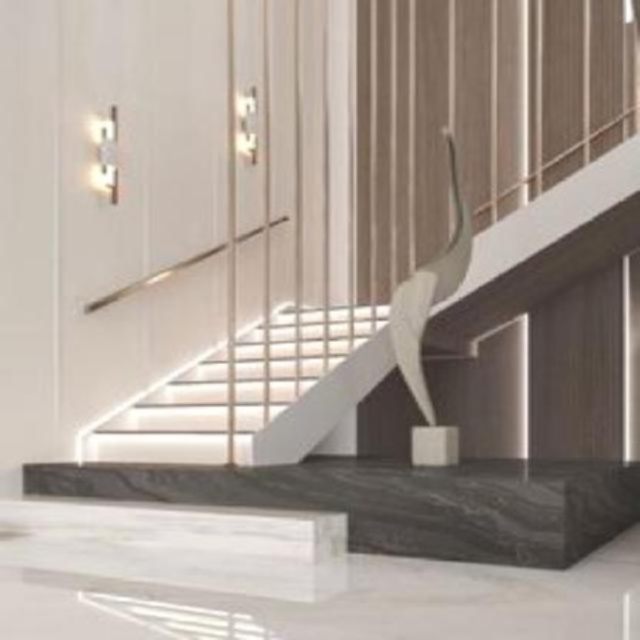stair: (38, 159, 462, 561)
